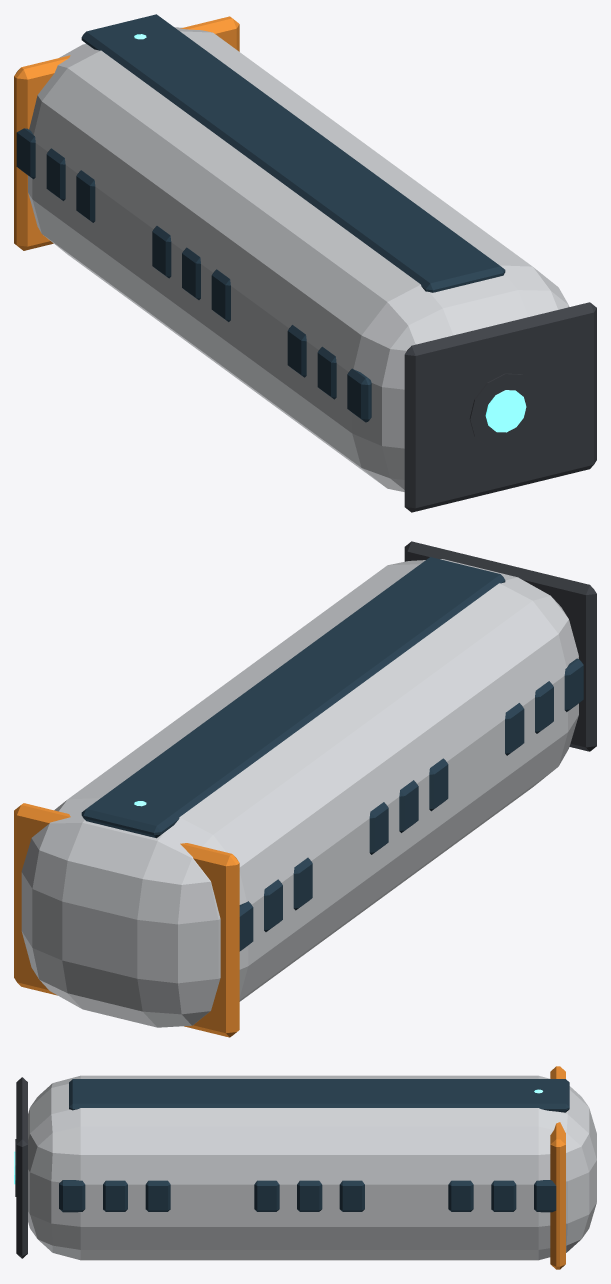
The model's file is crew_quarters_large.glb.
The picture shows the model from 3 angles, top to bottom: view 1: azimuth 30°, elevation 25°; view 2: azimuth 150°, elevation 25°; view 3: azimuth 270°, elevation 25°; orthographic projection. The views are drawn at different scales.
Visible parts, largest first — view 1: crew_quarters_large; view 2: crew_quarters_large; view 3: crew_quarters_large.
Boxes of the visible parts, x1,y1,x2,y2 form: crew_quarters_large: [14, 14, 596, 512]; crew_quarters_large: [14, 541, 596, 1037]; crew_quarters_large: [14, 1066, 596, 1269].
Bounding box in the file's own units: 0.95 × 0.865 × 3.
